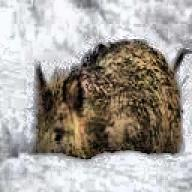boar: (30, 36, 192, 159)
